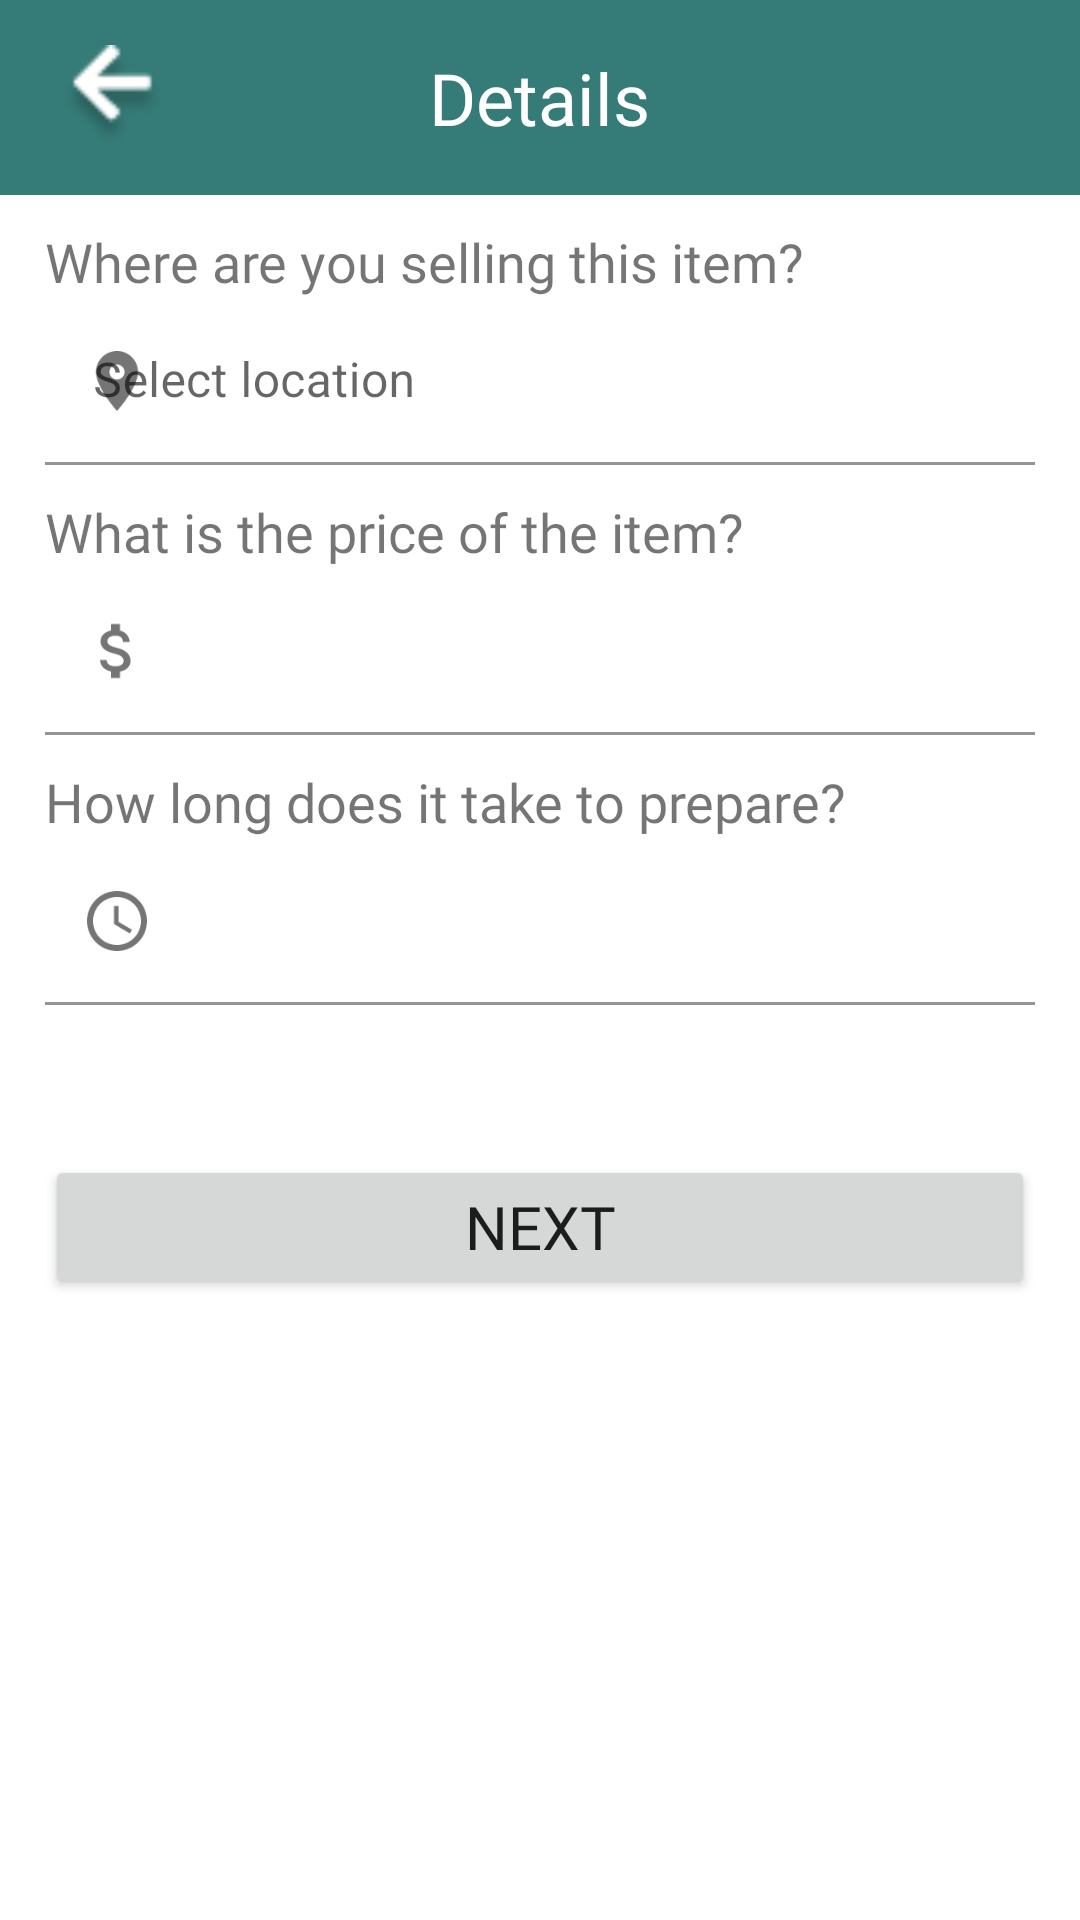

Icon click points for this 1080px x 1920px phone screenshot, format [x,y]:
backarrow: [112,83]
